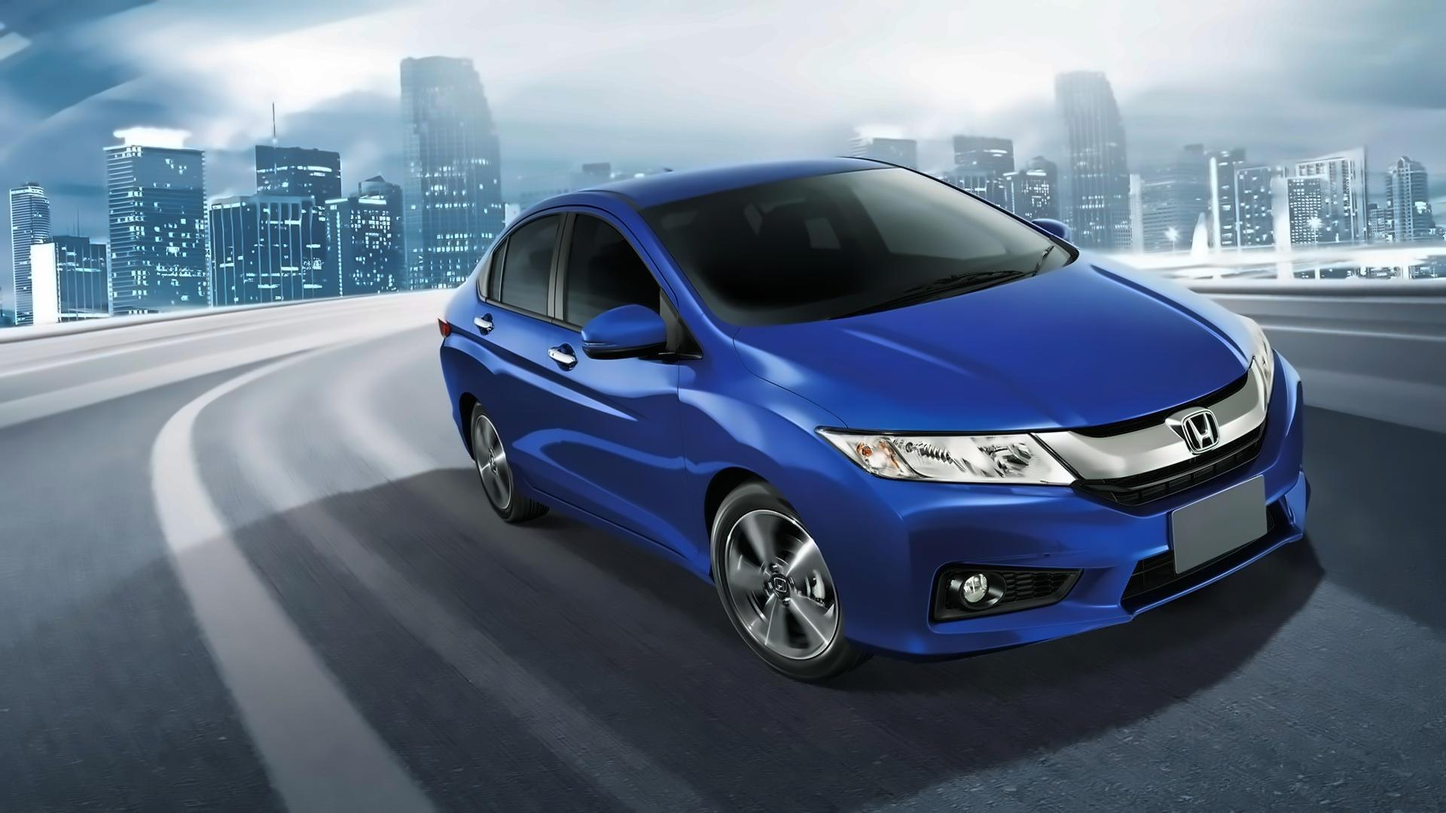Car hood: (730, 247, 1262, 434)
Driver-s door - -F-R-: (541, 182, 694, 575)
Fender - -F-R-: (664, 343, 857, 592)
Fender - -R-R-: (435, 261, 490, 441)
Front bumper: (838, 349, 1322, 659)
Headlight - -L-: (1245, 318, 1276, 423)
Headlight - -R-: (810, 423, 1077, 490)
Passenger-s door - -R-R-: (470, 182, 579, 514)
Side bumper - -R-: (512, 462, 709, 592)
Side mirror - -R-: (576, 296, 688, 366)
